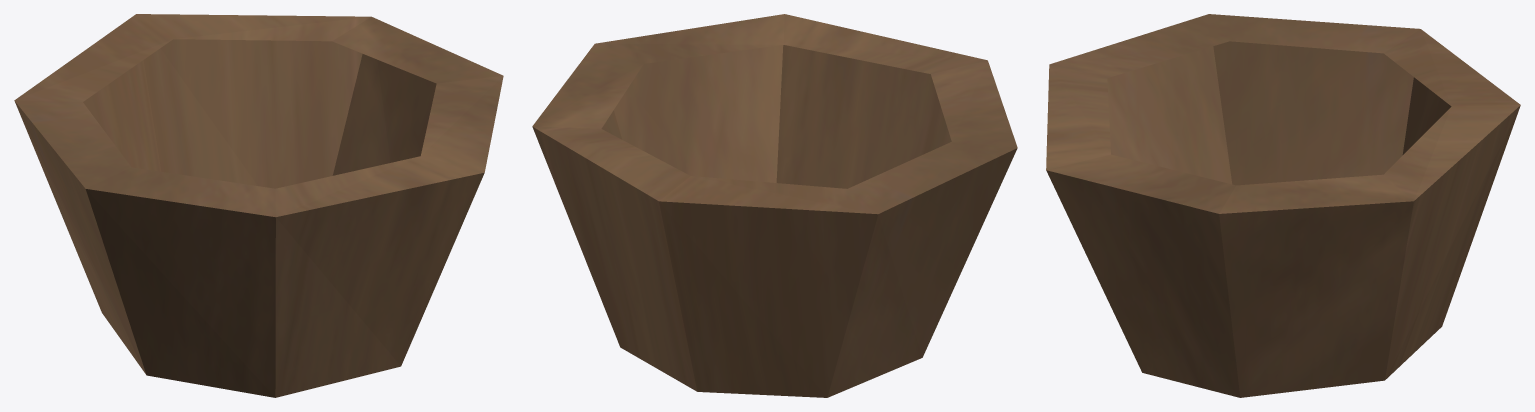
The model's file is A_HA_GEN_Ship_Crowsnest_01.fbx.
3 renders of one model, left to right at view 1: azimuth 30°, elevation 25°; view 2: azimuth 150°, elevation 25°; view 3: azimuth 270°, elevation 25°, orthographic.
Parts seen in each view (by area): view 1: A_HA_Gen_Ship_CrowsNest_01; view 2: A_HA_Gen_Ship_CrowsNest_01; view 3: A_HA_Gen_Ship_CrowsNest_01.
Boxes of the visible parts, x1,y1,x2,y2 form: A_HA_Gen_Ship_CrowsNest_01: (14, 14, 503, 397); A_HA_Gen_Ship_CrowsNest_01: (532, 14, 1017, 397); A_HA_Gen_Ship_CrowsNest_01: (1046, 14, 1520, 397).
Bounding box in the file's own units: 299 × 156 × 291.
Materials: 1 (1 with a texture image).
